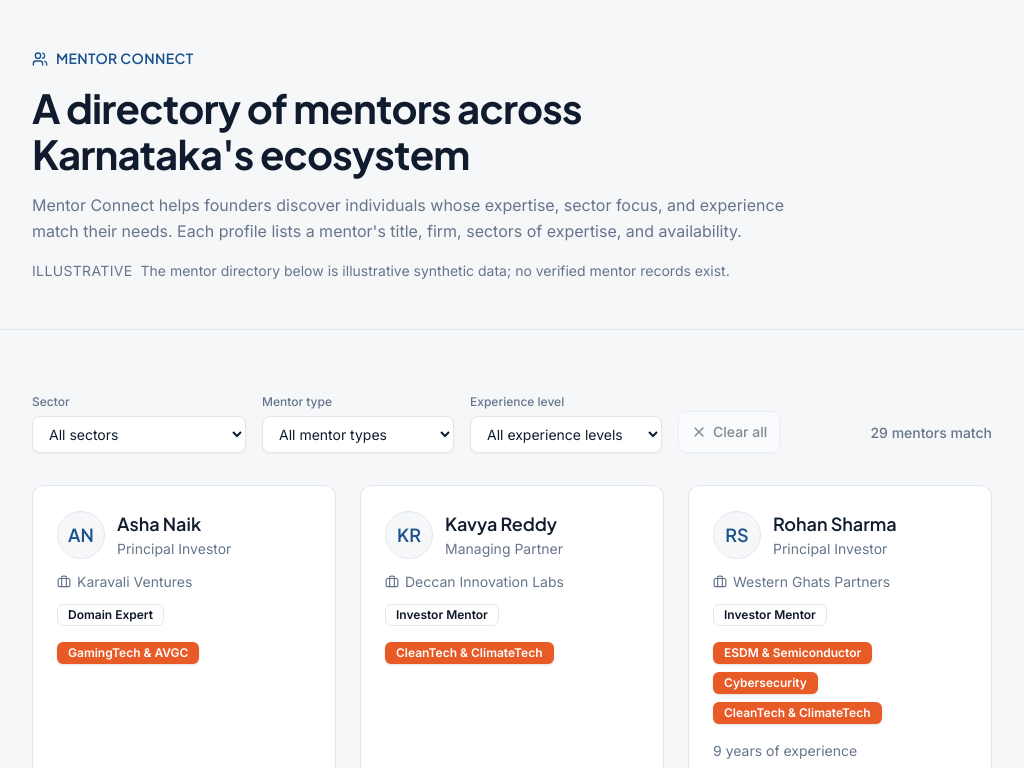
Test case: MentorsPage (Mentor Connect) › shows the empty state naming the active filters when a combination matches nothing
Select "Deep Tech" in the dropdown labelled "Sector" at (139, 435), box [32, 416, 246, 453]
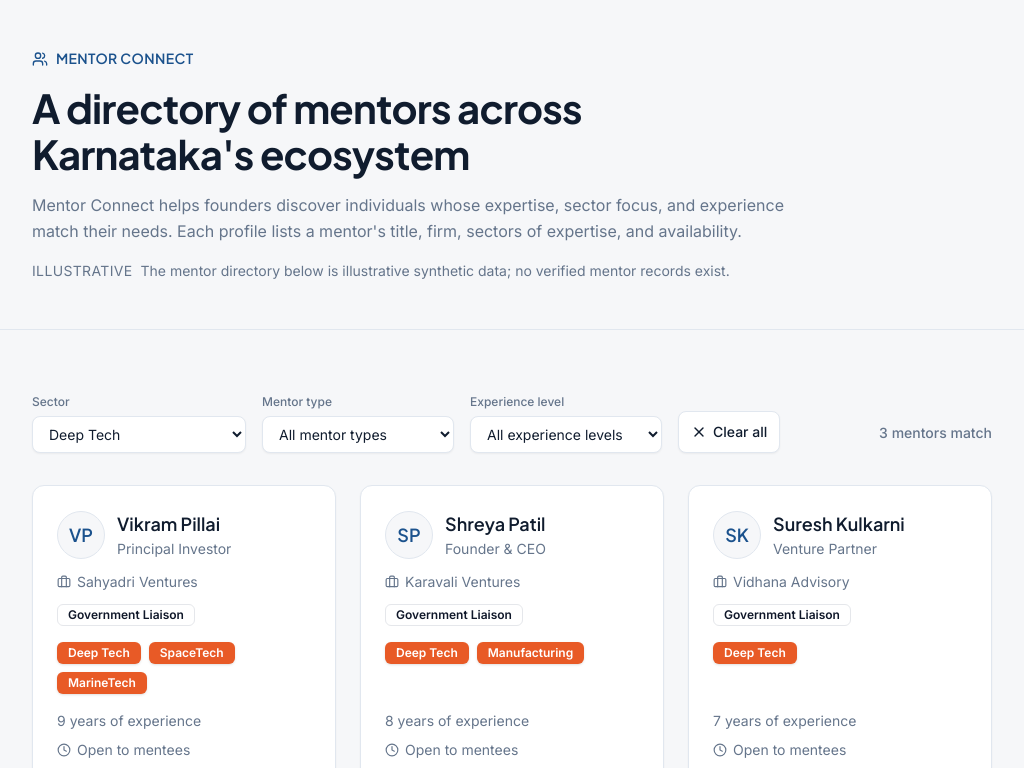
Select "Domain Expert" in the dropdown labelled "Mentor type" at (358, 435), box [262, 416, 454, 453]
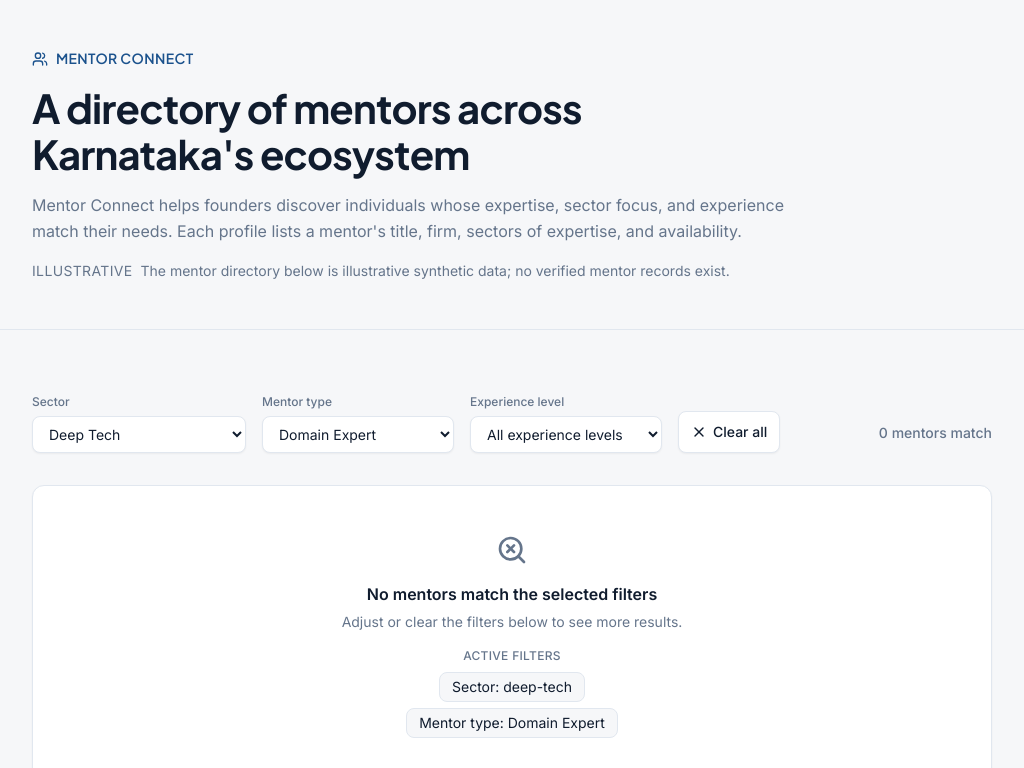
Expected: the text "No mentors match the selected filters" is shown, [342, 582, 682, 606]
